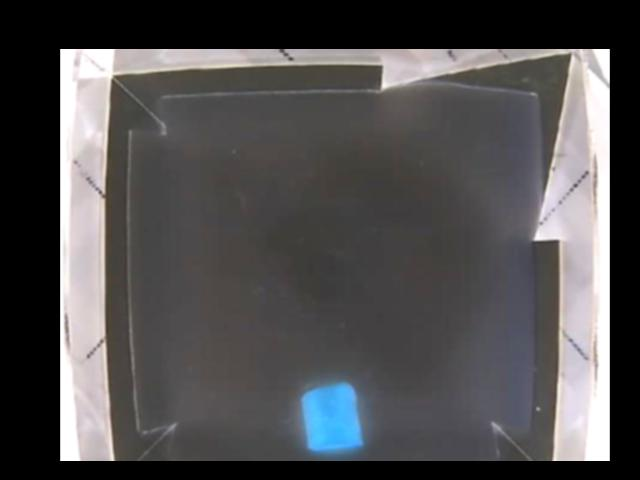Carrot: (299, 382, 363, 449)
